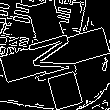M_E: (24, 26, 86, 84)
